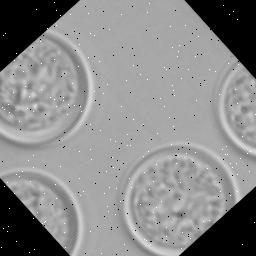picoshell: (121, 140, 241, 256), (0, 28, 93, 144), (1, 167, 84, 256), (217, 59, 256, 156)
